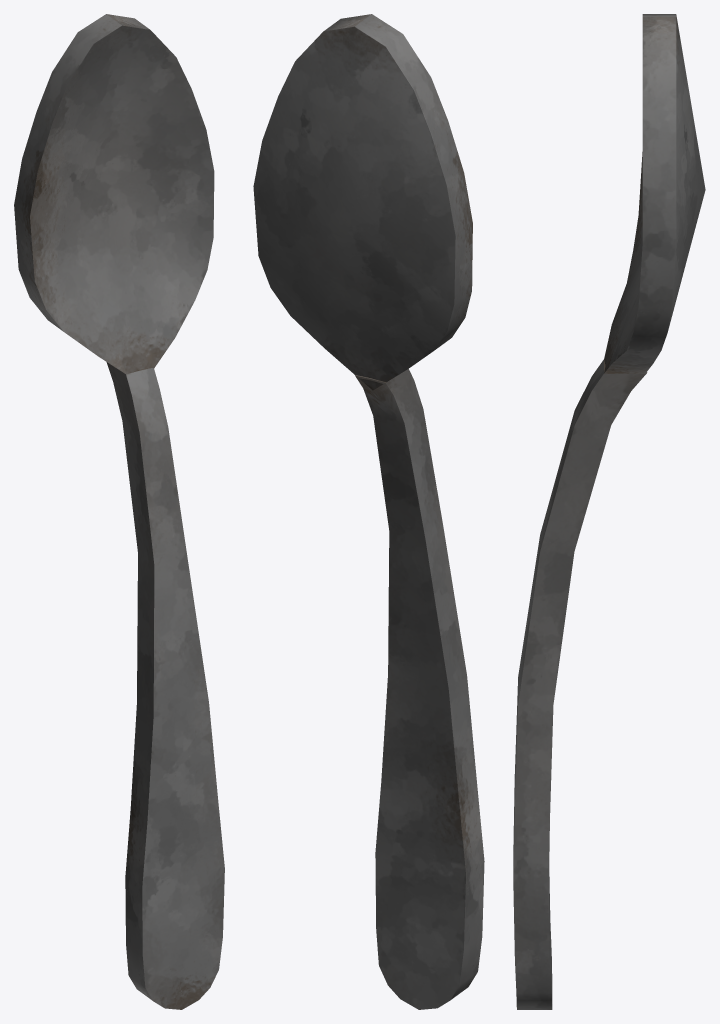
File: Colher_MESH.fbx
The picture shows the model from 3 angles, left to right: view 1: azimuth 30°, elevation 25°; view 2: azimuth 150°, elevation 25°; view 3: azimuth 270°, elevation 25°; orthographic projection. The views are drawn at different scales.
Parts seen in each view (by area): view 1: Colher_MESH; view 2: Colher_MESH; view 3: Colher_MESH.
Part boxes in pixels (<box>): Colher_MESH: <box>14,14,224,1009</box>; Colher_MESH: <box>253,14,484,1009</box>; Colher_MESH: <box>513,14,705,1009</box>.
Size of the model in its own units: 4.59 by 22.37 by 3.93.
Materials: 1 (1 with a texture image).
